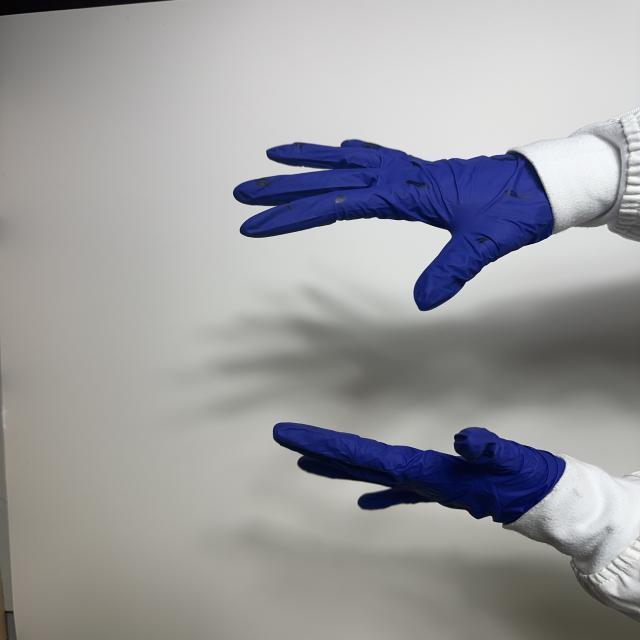gloves_contaminated: (236, 140, 554, 310), (275, 425, 565, 524)
